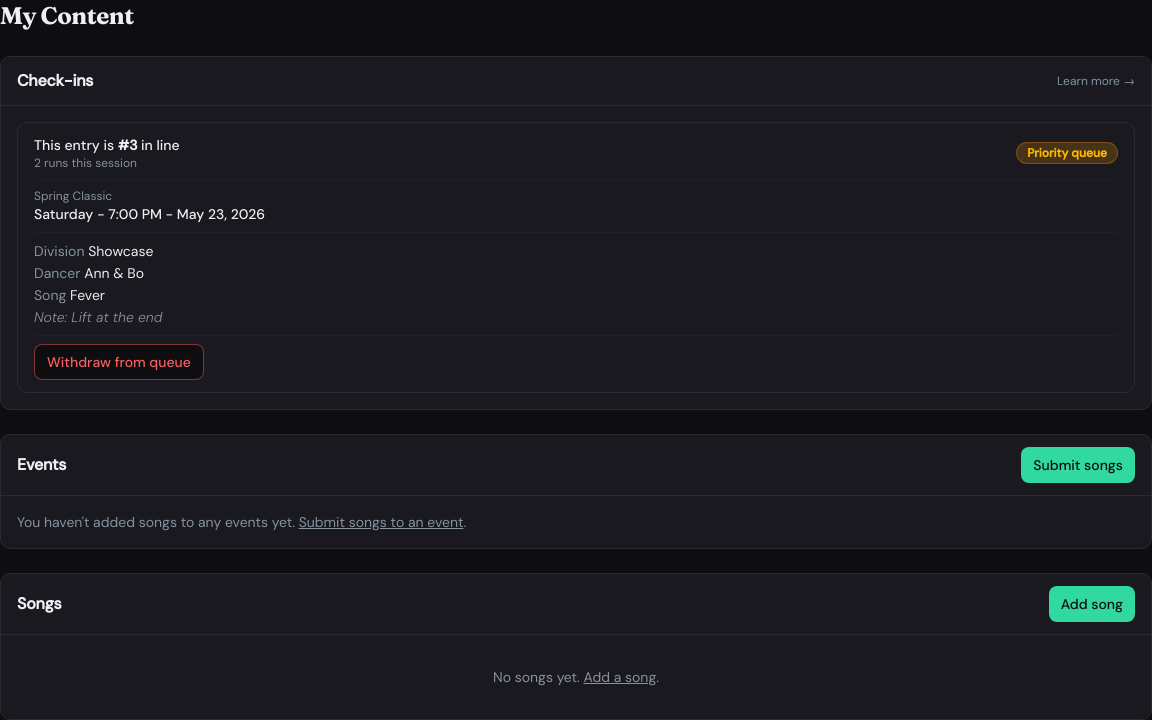
Test case: MyContentPage — Check-ins section › withdraws a check-in after confirming and removes it from the page
Click the button "Withdraw from queue". click: (119, 362)
box: [34, 344, 204, 380]
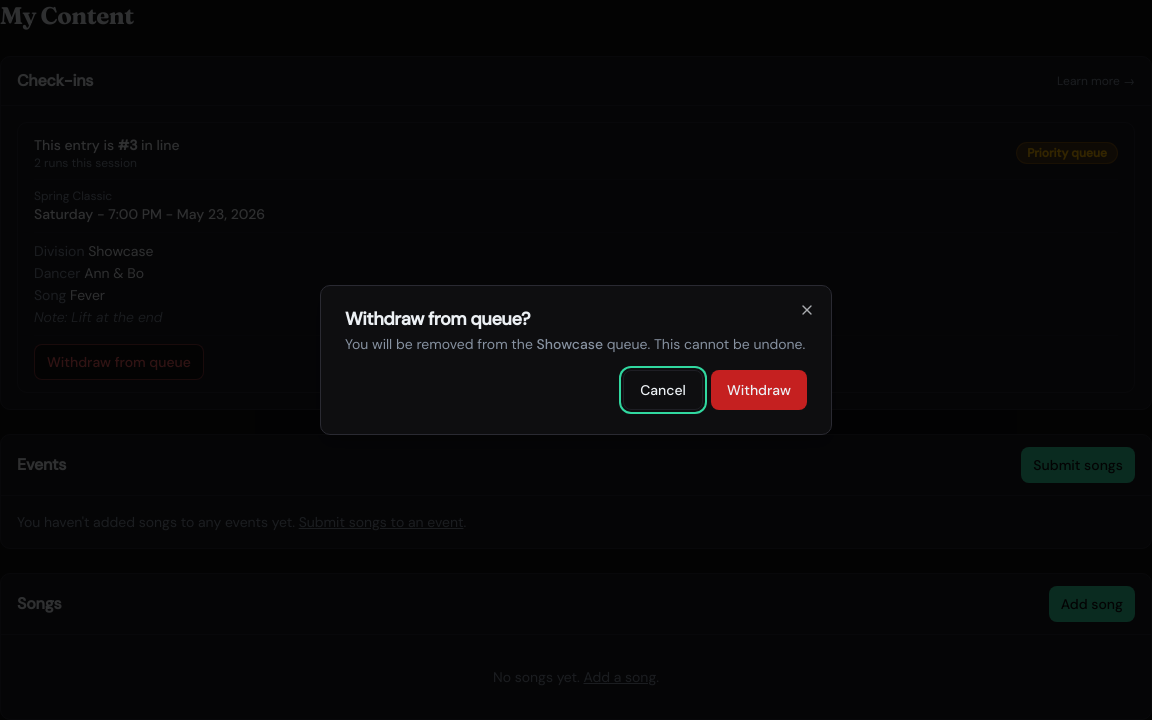
expect the dialog shows "You will be removed from the Showcase queue": met, box [320, 285, 832, 435]
Click the button "Withdraw". click: (759, 390)
box: [711, 370, 807, 410]
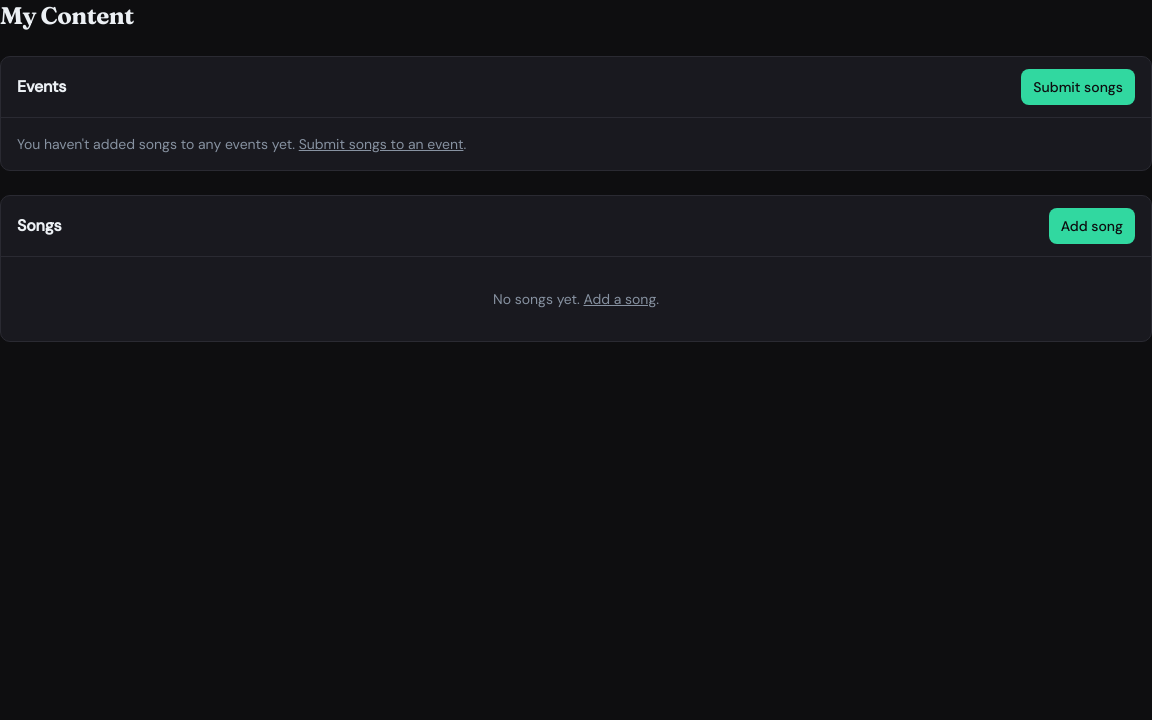
expect the heading "Check-ins" is gone: met
